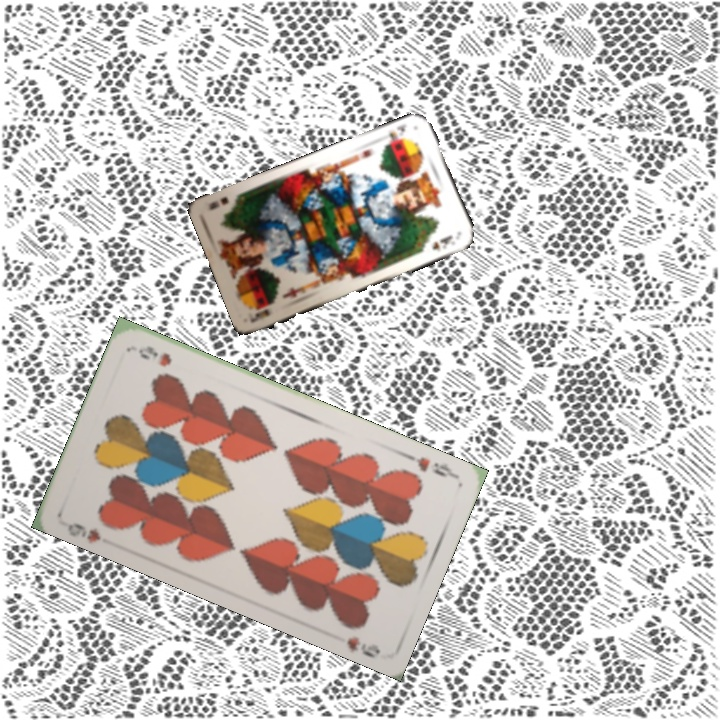H9: (401, 450, 458, 481), (63, 518, 103, 545)
SK: (380, 120, 409, 148), (246, 305, 273, 325)
